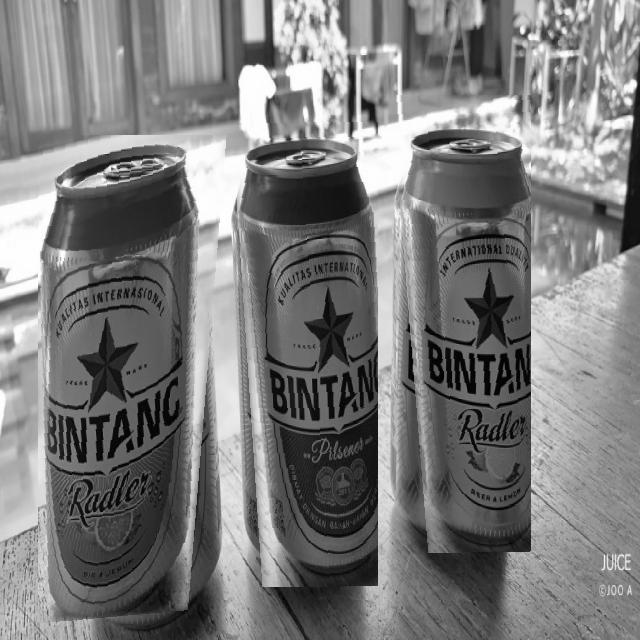Cans: (38, 135, 228, 627), (231, 115, 378, 587), (392, 95, 532, 553)
